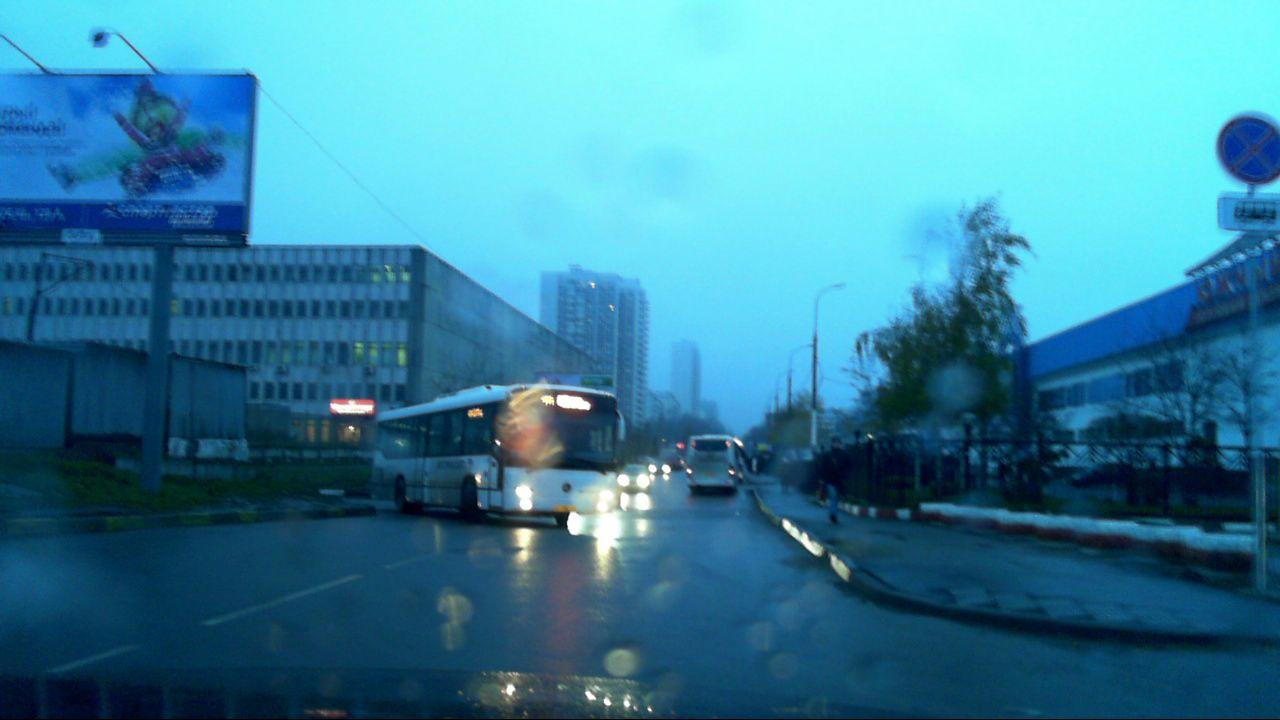3_27: (1210, 114, 1280, 187)
8_4_4: (1215, 194, 1279, 233)
